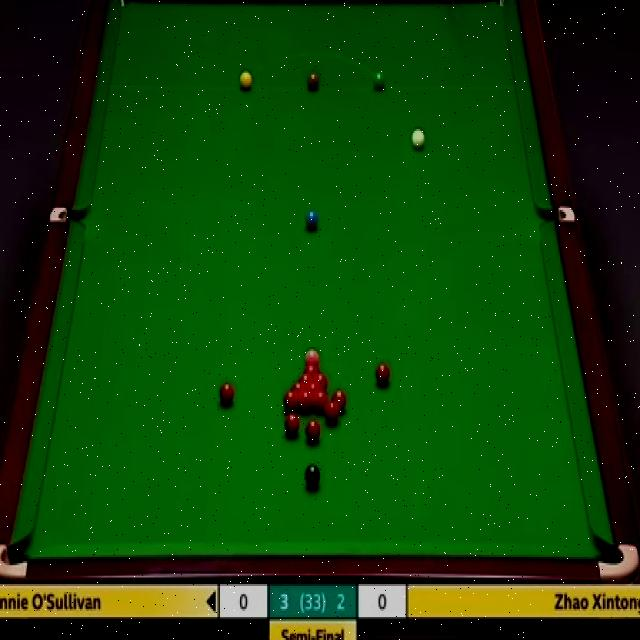black-ball: (305, 463, 321, 490)
blue-ball: (305, 210, 319, 230)
brown-ball: (306, 72, 320, 91)
green-ball: (372, 70, 386, 92)
pink-ball: (304, 347, 319, 360)
red-ball: (218, 382, 235, 408), (375, 362, 391, 388), (284, 413, 301, 437), (305, 419, 321, 443), (282, 389, 298, 412), (331, 389, 346, 413), (324, 402, 339, 424), (314, 390, 328, 413), (298, 389, 312, 411), (314, 372, 328, 388), (301, 361, 320, 371), (297, 372, 313, 382), (290, 381, 305, 391), (305, 381, 321, 390)
white-ball: (410, 124, 427, 153)
yellow-ball: (238, 71, 252, 91)
